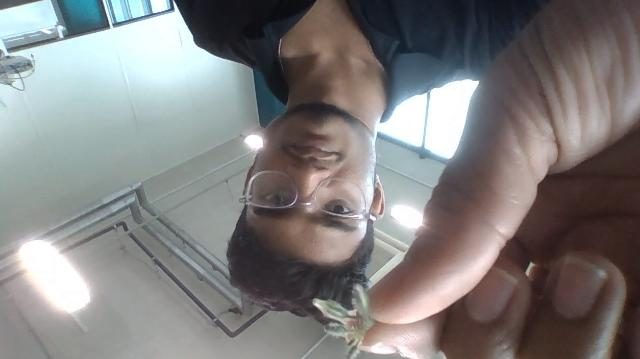Flower Bud: (353, 284, 372, 323)
